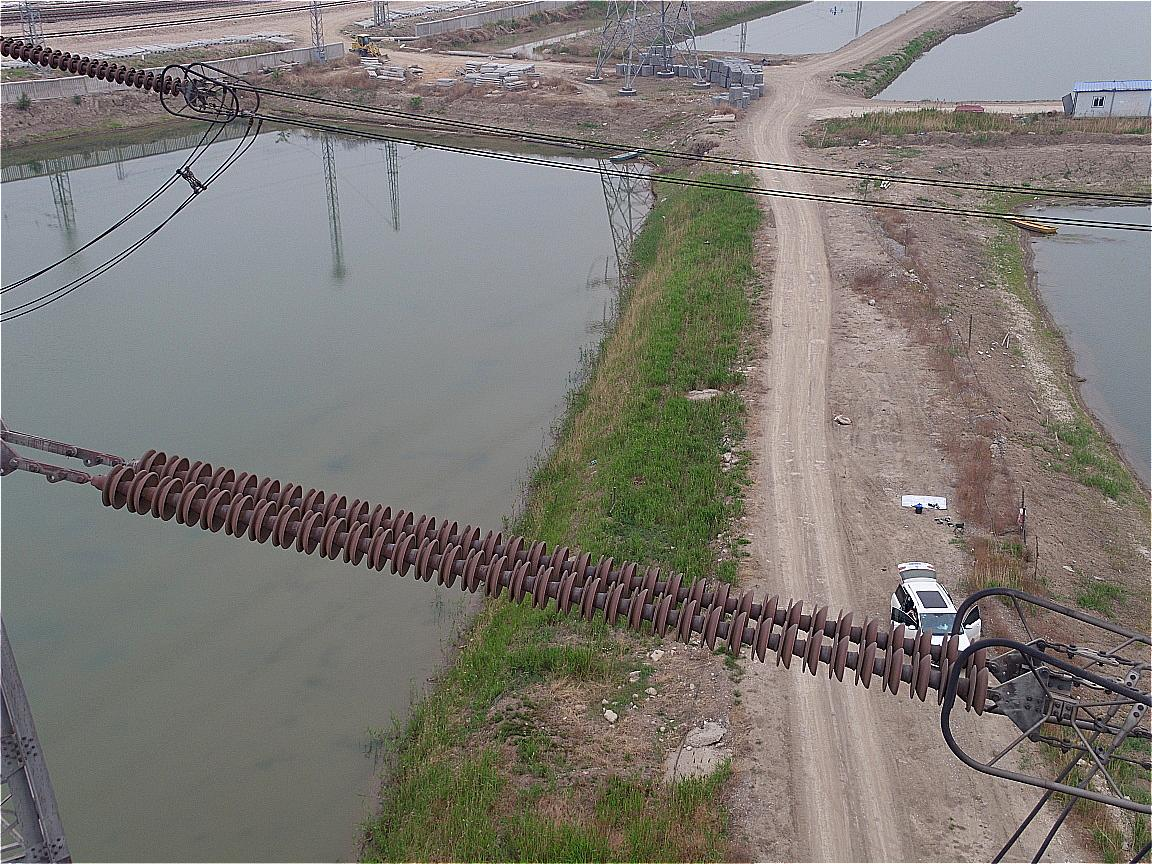insultor1: (3, 31, 180, 101)
insultor2: (98, 446, 990, 717)
